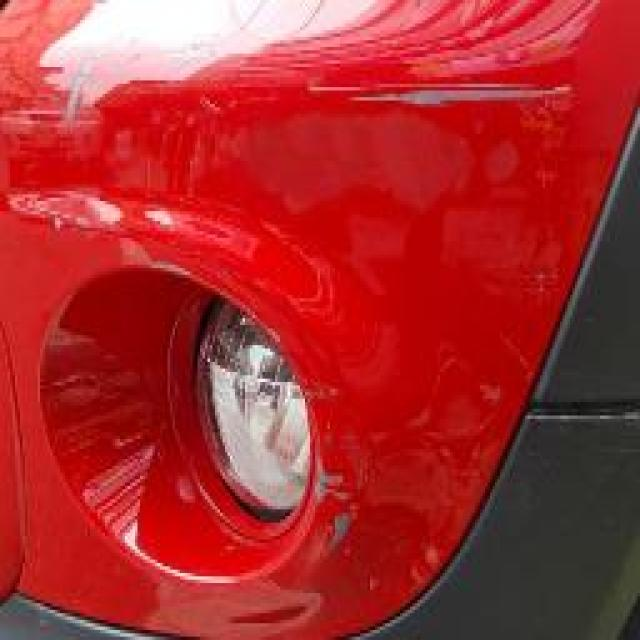Bumper: (12, 3, 605, 640)
